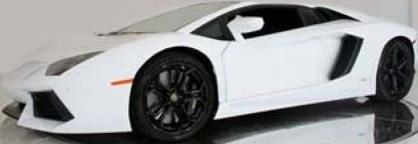front_view: (4, 45, 107, 138)
headlight: (43, 50, 104, 81)
side_glass: (192, 1, 360, 46)
